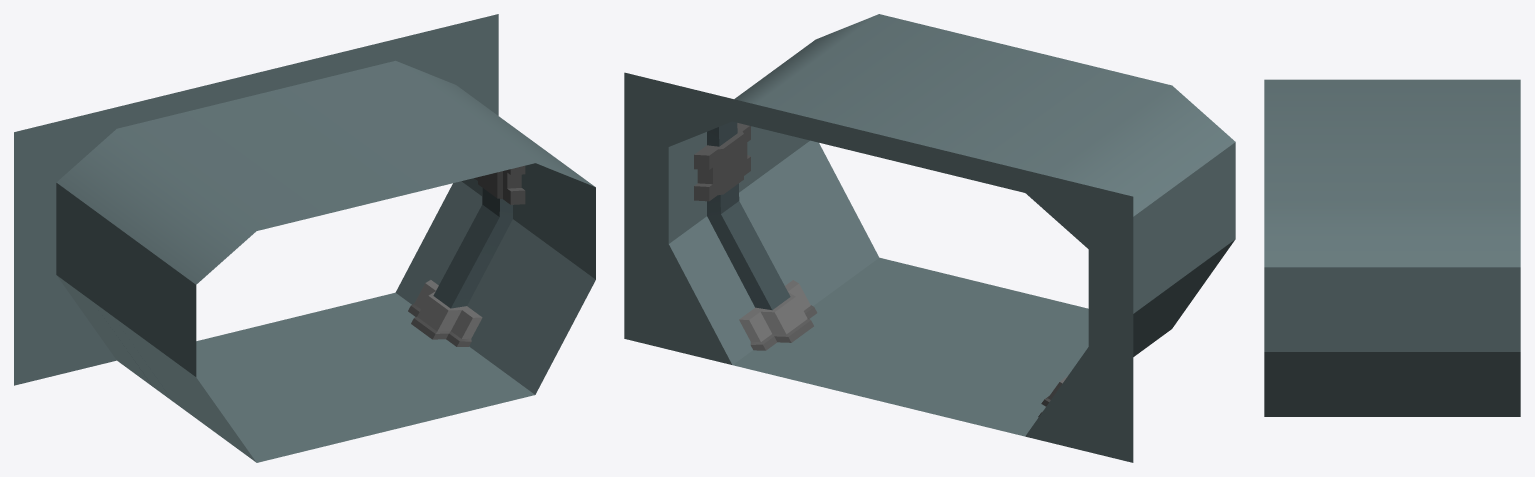
Rendered from SM_wall_extrude_1.fbx.
3 renders of one model, left to right at view 1: azimuth 30°, elevation 25°; view 2: azimuth 150°, elevation 25°; view 3: azimuth 270°, elevation 25°, orthographic. The views are drawn at different scales.
Visible parts, largest first — view 1: SM_wall_extrude_1; view 2: SM_wall_extrude_1; view 3: SM_wall_extrude_1.
Boxes of the visible parts, box(x1,y1,x2,y2) form: SM_wall_extrude_1: box(14, 14, 595, 462); SM_wall_extrude_1: box(624, 14, 1235, 462); SM_wall_extrude_1: box(1264, 79, 1520, 416).
Bounding box in the file's own units: 600 × 301 × 300.
1 material, 1 textured.
